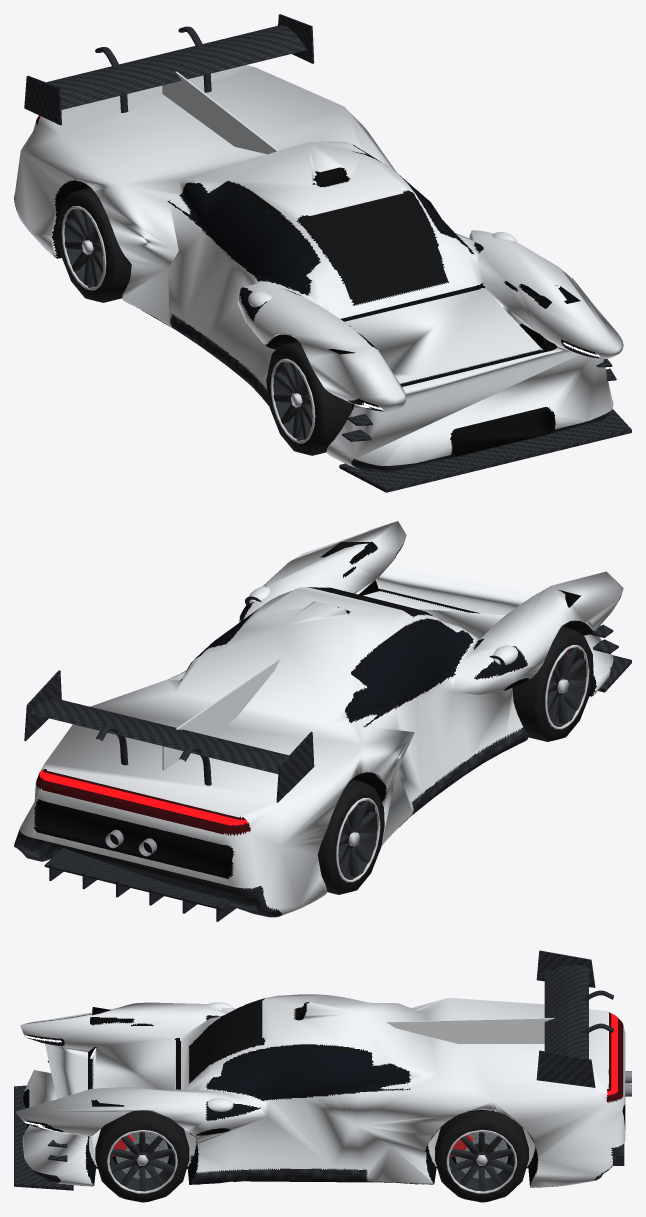
File: optimized_gt_racecar_v4_LOD2.glb
The picture shows the model from 3 angles, top to bottom: view 1: azimuth 30°, elevation 25°; view 2: azimuth 150°, elevation 25°; view 3: azimuth 270°, elevation 25°; orthographic projection. The views are drawn at different scales.
Parts seen in each view (by area): view 1: Body_Paint, Window_Trim, GT_Rear_Wing, Body_Glass, Intakes_And_Vents, Front_Canard_R, Wheel_FR_Tyre_Mesh, Wheel_RR_Tyre_Mesh, Shark_Fin, Body_Carbon, Wheel_FR_Rim_Mesh, Wheel_RR_Rim_Mesh (+2 smaller); view 2: Body_Paint, GT_Rear_Wing, Intakes_And_Vents, Body_Glass, Body_Carbon, Front_Canard_R, Wheel_FR_Tyre_Mesh, Window_Trim, Taillight_Lenses, Wheel_RR_Tyre_Mesh, Shark_Fin, Wheel_FR_Rim_Mesh (+4 smaller); view 3: Body_Paint, Body_Glass, GT_Rear_Wing, Window_Trim, Wheel_RL_Tyre_Mesh, Wheel_FL_Tyre_Mesh, Shark_Fin, Intakes_And_Vents, Body_Carbon, Wheel_FL_Rim_Mesh, Wheel_RL_Rim_Mesh, Front_Canard_R (+7 smaller).
Part boxes in pixels (left/top/right/bottom): Body_Paint: left=14, top=65, right=623, bottom=468; Window_Trim: left=167, top=145, right=483, bottom=321; GT_Rear_Wing: left=24, top=14, right=314, bottom=125; Body_Glass: left=183, top=149, right=482, bottom=314; Intakes_And_Vents: left=52, top=167, right=580, bottom=457; Front_Canard_R: left=339, top=359, right=631, bottom=492; Wheel_FR_Tyre_Mesh: left=266, top=340, right=352, bottom=455; Wheel_RR_Tyre_Mesh: left=57, top=187, right=131, bottom=302; Shark_Fin: left=162, top=71, right=278, bottom=154; Body_Carbon: left=14, top=198, right=610, bottom=472; Wheel_FR_Rim_Mesh: left=273, top=361, right=312, bottom=440; Wheel_RR_Rim_Mesh: left=64, top=208, right=103, bottom=287; Body_Paint: left=19, top=521, right=623, bottom=915; GT_Rear_Wing: left=24, top=670, right=314, bottom=802; Intakes_And_Vents: left=33, top=541, right=596, bottom=878; Body_Glass: left=197, top=602, right=523, bottom=718; Body_Carbon: left=14, top=666, right=611, bottom=917; Front_Canard_R: left=44, top=624, right=631, bottom=921; Wheel_FR_Tyre_Mesh: left=512, top=626, right=593, bottom=741; Window_Trim: left=172, top=585, right=527, bottom=727; Taillight_Lenses: left=36, top=769, right=250, bottom=835; Wheel_RR_Tyre_Mesh: left=317, top=779, right=384, bottom=894; Shark_Fin: left=162, top=658, right=280, bottom=770; Wheel_FR_Rim_Mesh: left=547, top=647, right=586, bottom=726; Body_Paint: left=15, top=994, right=625, bottom=1187; Body_Glass: left=209, top=1015, right=406, bottom=1116; GT_Rear_Wing: left=536, top=950, right=613, bottom=1087; Window_Trim: left=188, top=998, right=410, bottom=1120; Wheel_RL_Tyre_Mesh: left=435, top=1111, right=528, bottom=1202; Wheel_FL_Tyre_Mesh: left=95, top=1110, right=189, bottom=1202; Shark_Fin: left=386, top=1017, right=554, bottom=1043; Intakes_And_Vents: left=22, top=1002, right=625, bottom=1187; Body_Carbon: left=24, top=1070, right=622, bottom=1184; Wheel_FL_Rim_Mesh: left=109, top=1132, right=175, bottom=1191; Wheel_RL_Rim_Mesh: left=449, top=1132, right=514, bottom=1191; Front_Canard_R: left=14, top=1060, right=624, bottom=1190.
Size of the model in its own units: 2.01 by 1.26 by 4.73.
Materials: 16 (2 with a texture image).
